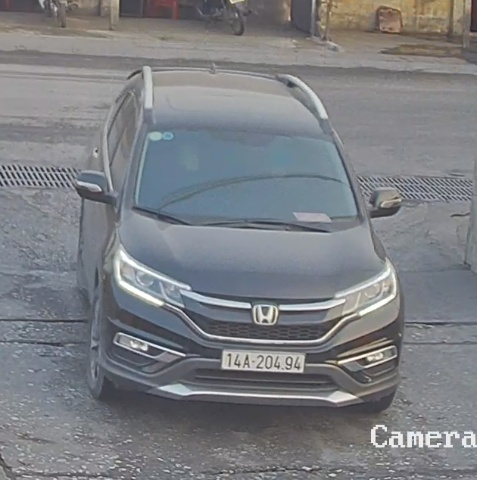vehicle plate: (219, 345, 313, 378)
